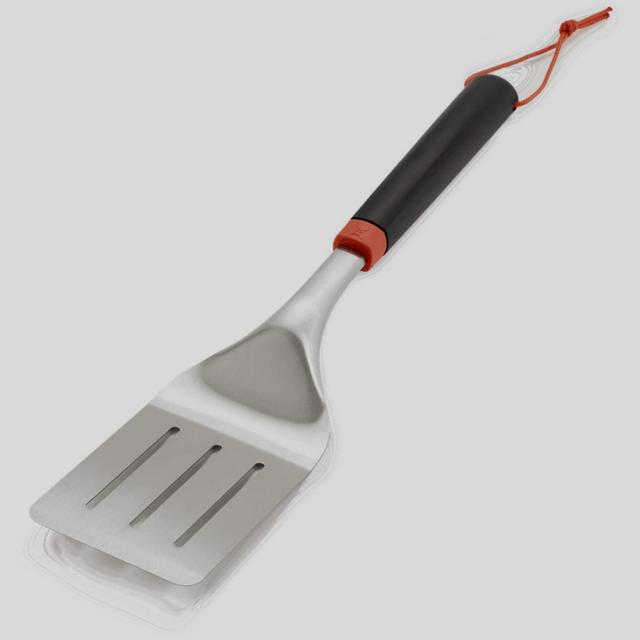Spatula: (23, 3, 616, 606)
